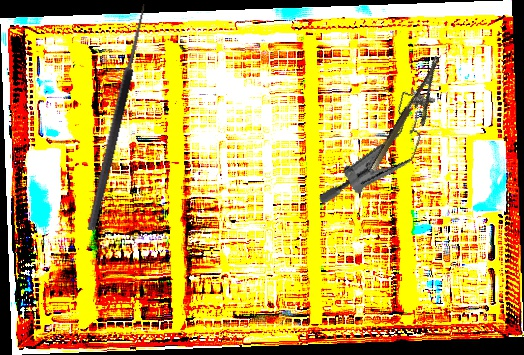Hook Surgical: (75, 0, 149, 232)
Needle Holder: (368, 55, 458, 181)
Speculum: (316, 69, 439, 229)
